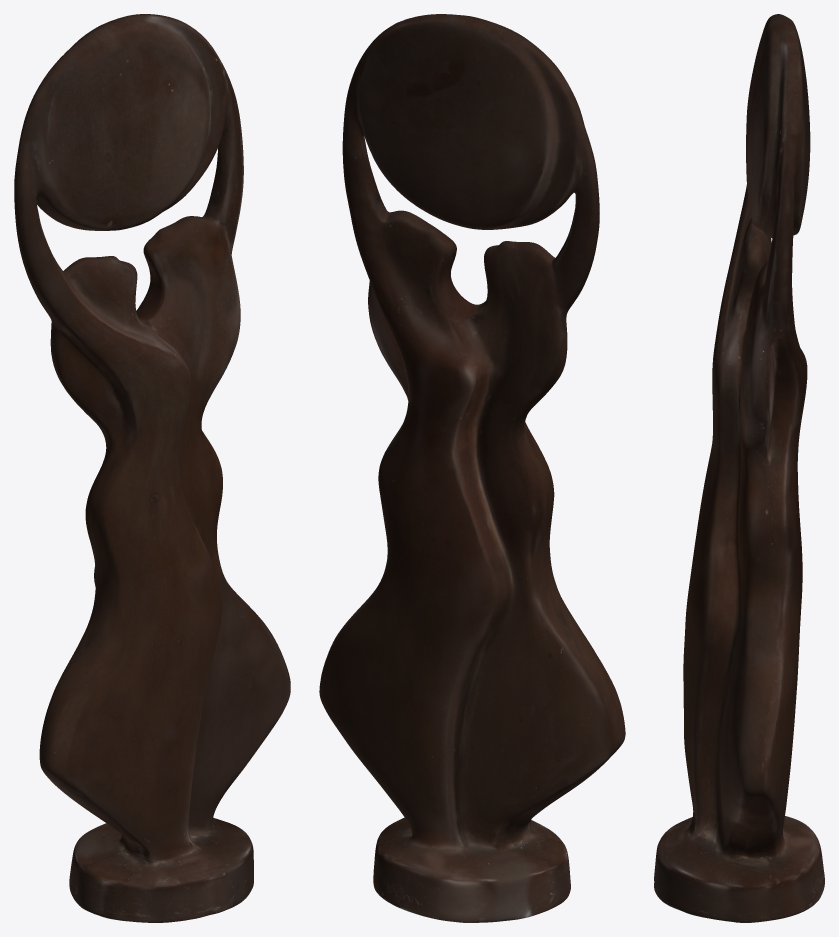
3 renders of one model, left to right at view 1: azimuth 30°, elevation 25°; view 2: azimuth 150°, elevation 25°; view 3: azimuth 270°, elevation 25°, orthographic. The views are drawn at different scales.
Parts seen in each view (by area): view 1: low.001; view 2: low.001; view 3: low.001.
Part boxes in pixels (x1,y1,x2,y2): low.001: (14, 14, 290, 922); low.001: (319, 14, 625, 922); low.001: (654, 14, 824, 922).
Size of the model in its own units: 1.94 by 5.93 by 1.08.
1 material, 1 textured.
